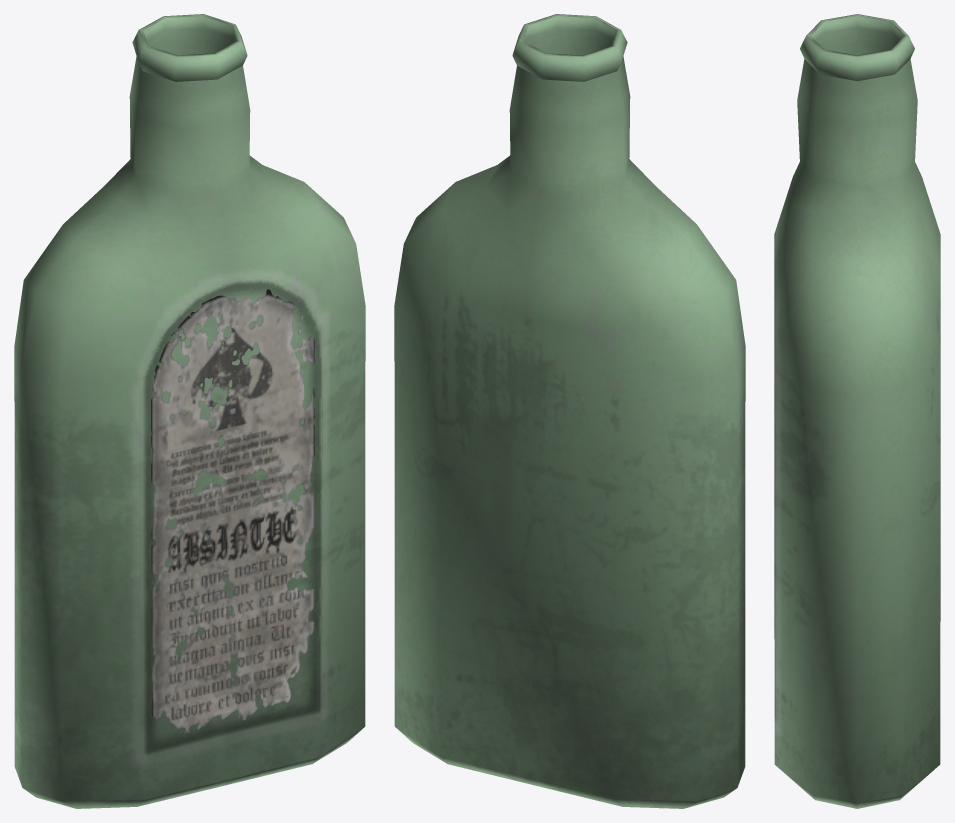
Rendered from bottle_absinthe.dae.
The picture shows the model from 3 angles, left to right: view 1: azimuth 30°, elevation 25°; view 2: azimuth 150°, elevation 25°; view 3: azimuth 270°, elevation 25°; orthographic projection. The views are drawn at different scales.
Parts seen in each view (by area): view 1: absinthe_bottle, absinthe_bottle_label; view 2: absinthe_bottle; view 3: absinthe_bottle.
Boxes of the visible parts, x1,y1,x2,y2 form: absinthe_bottle: (14,14,365,808); absinthe_bottle_label: (151,289,314,733); absinthe_bottle: (394,14,745,808); absinthe_bottle: (774,14,940,808).
Size of the model in its own units: 0.147 by 0.303 by 0.0653.
